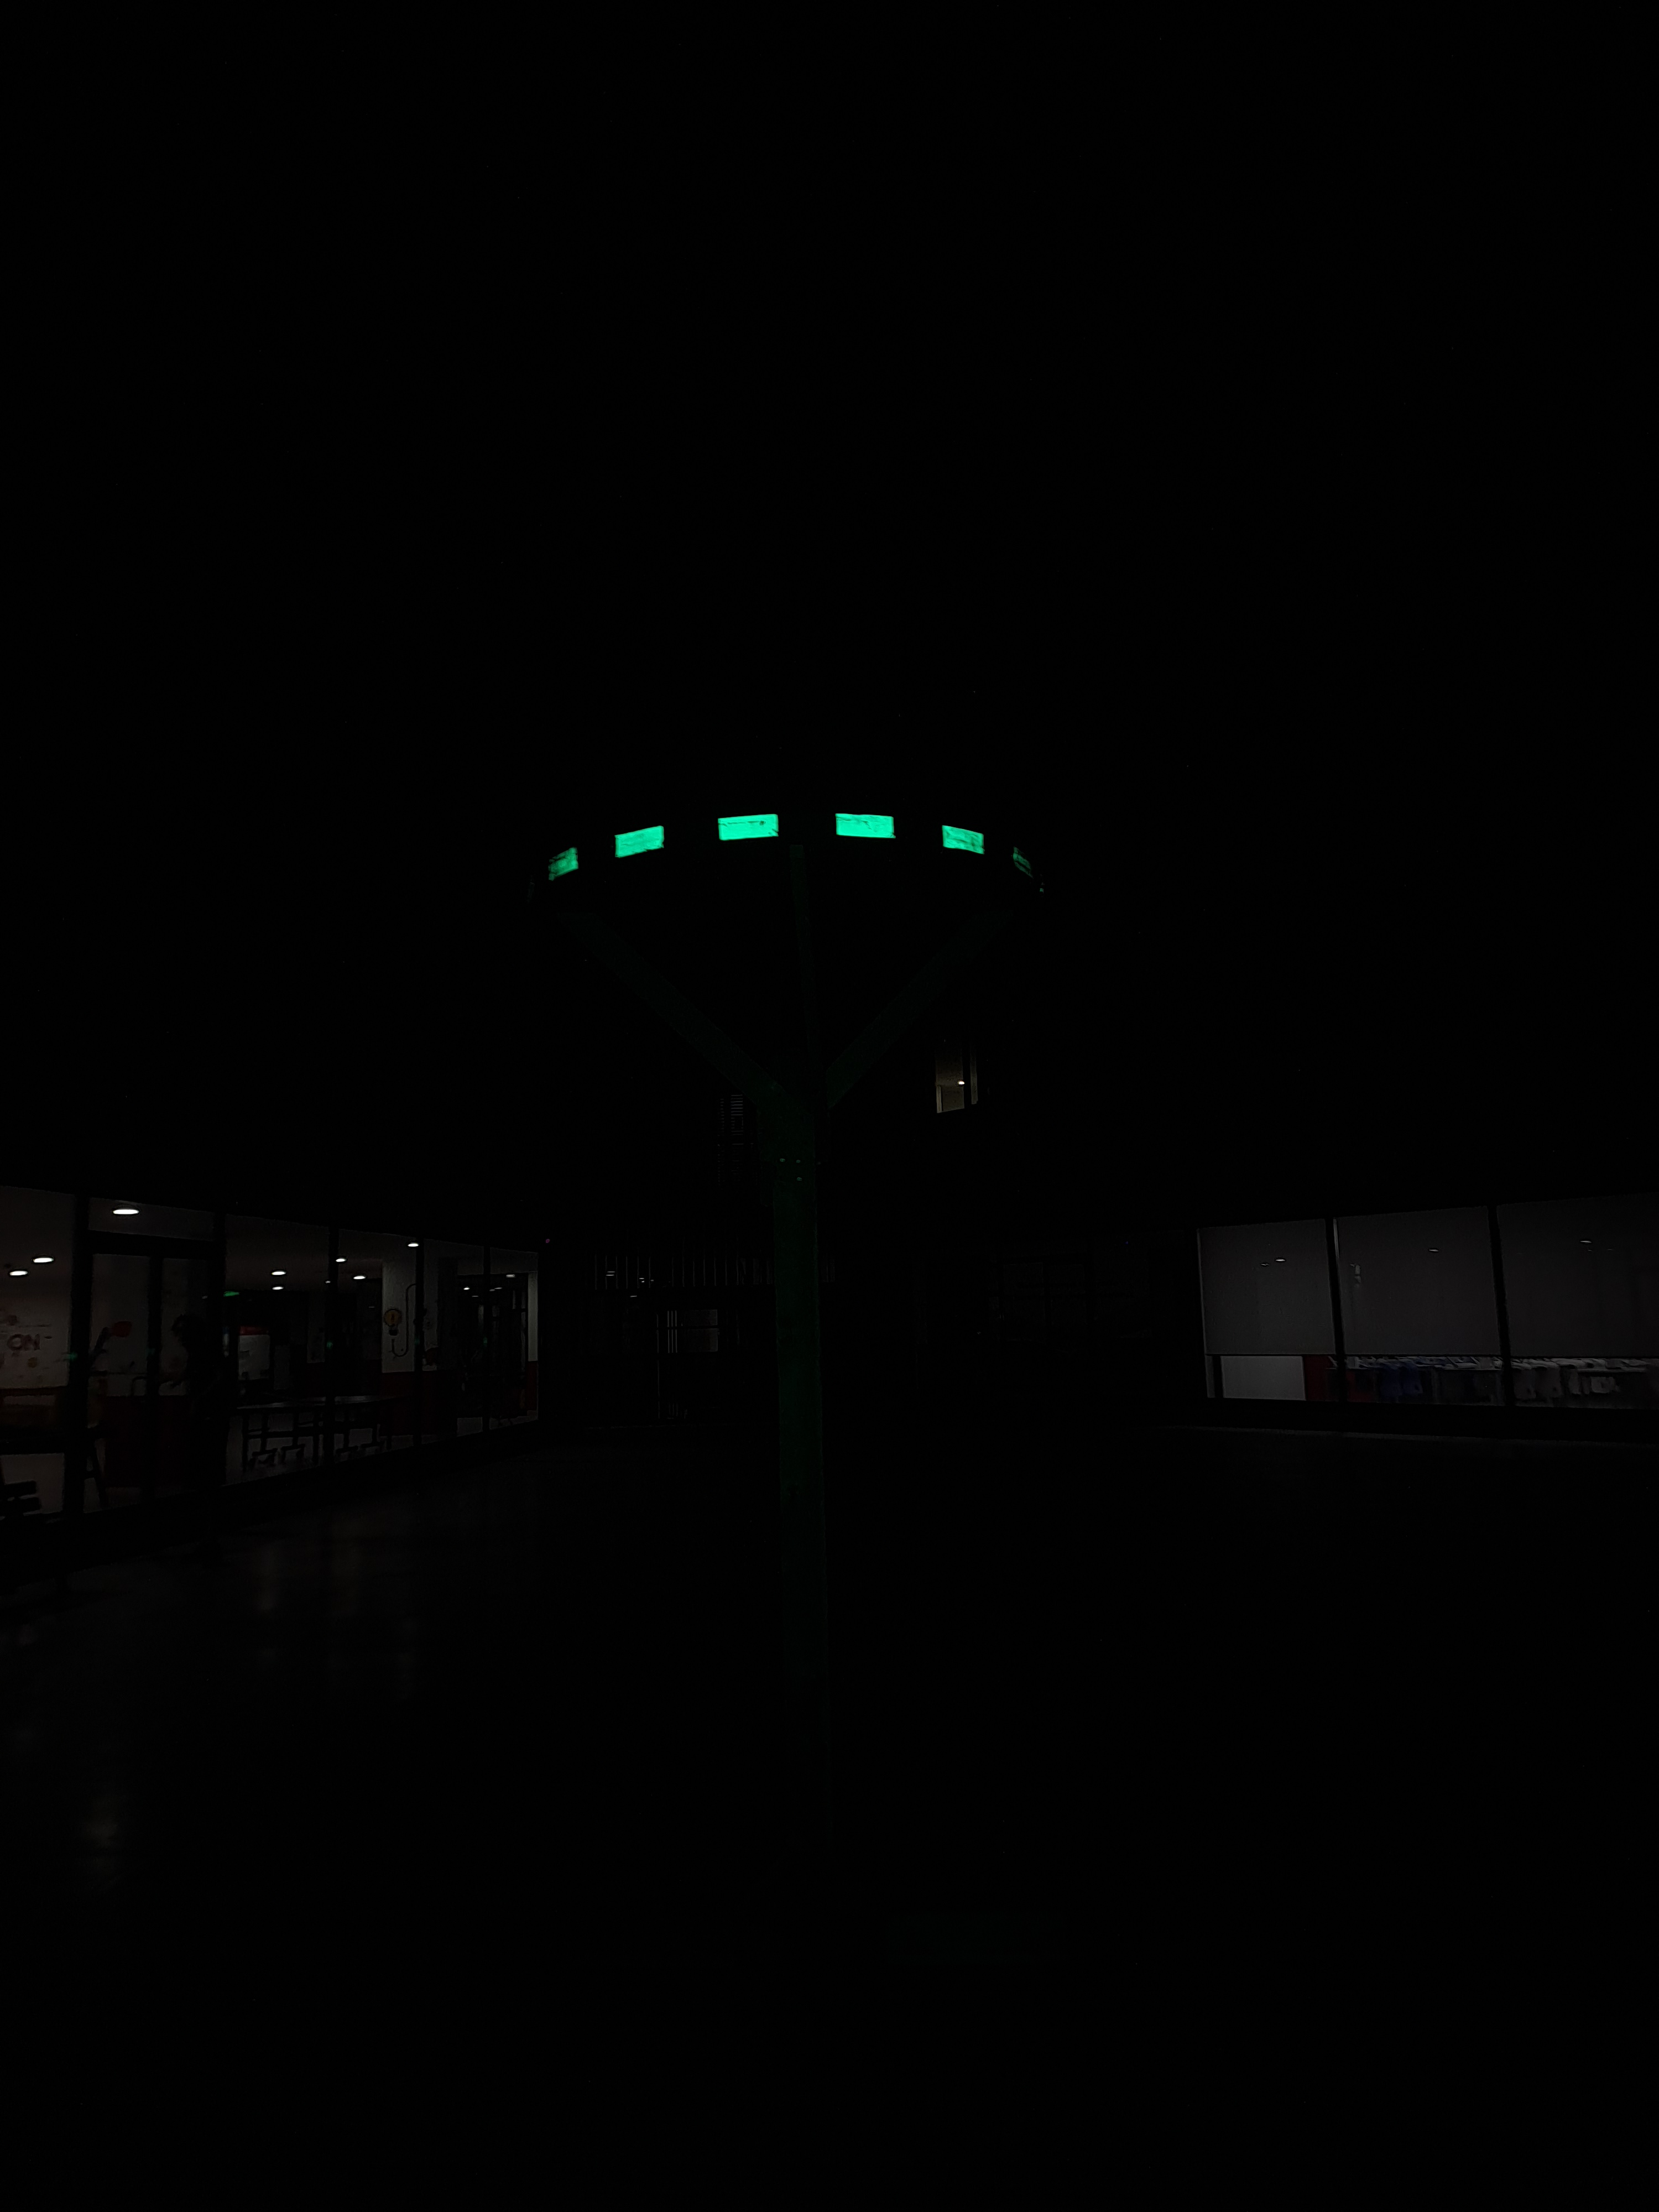hoop: (533, 813, 990, 885)
